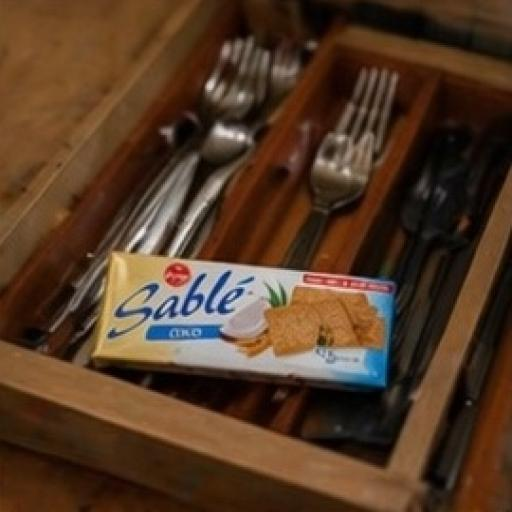sable: (72, 210, 445, 464)
